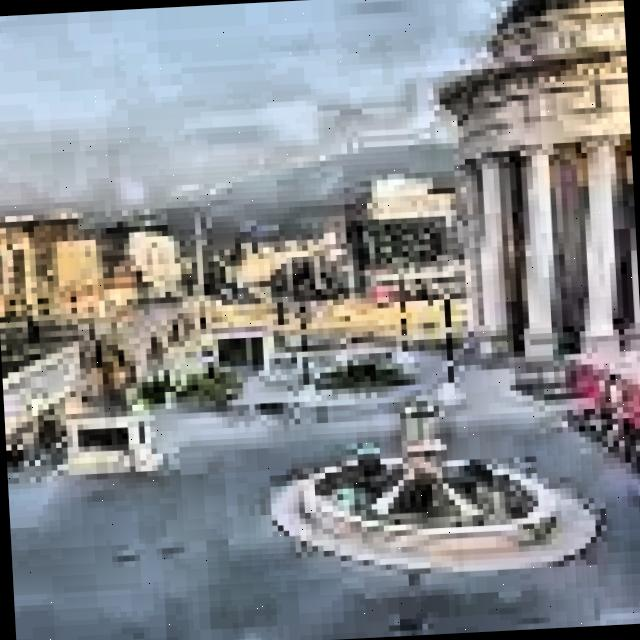stone bridge: (0, 279, 234, 428)
